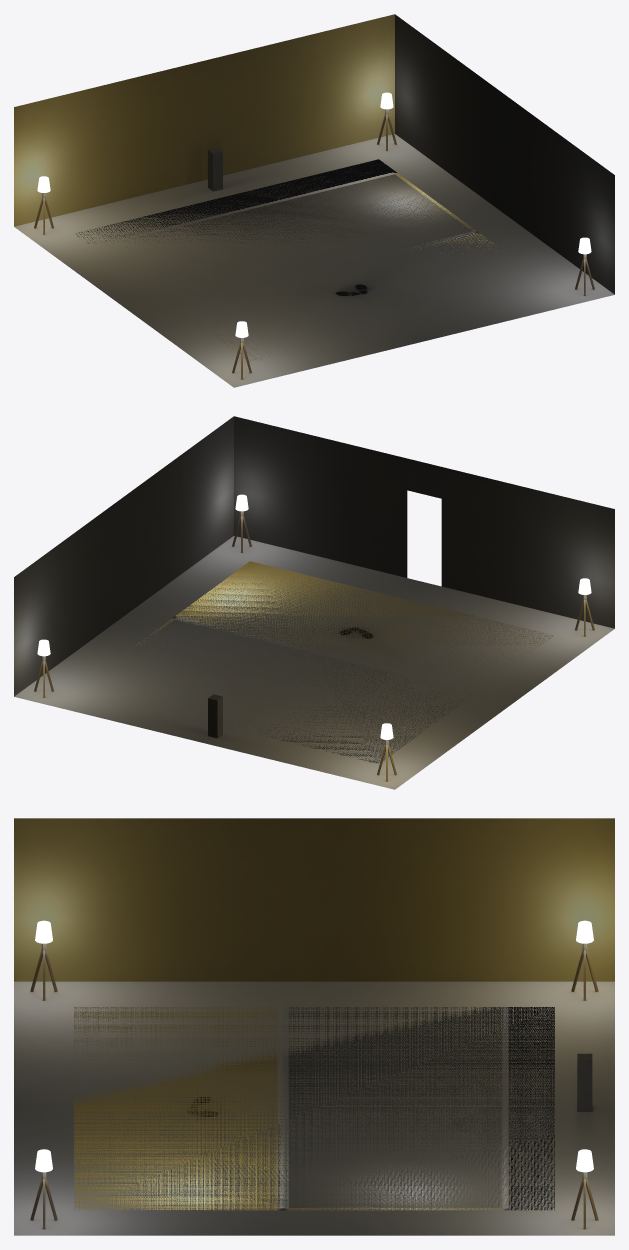
Rendered from soba.glb.
The picture shows the model from 3 angles, top to bottom: view 1: azimuth 30°, elevation 25°; view 2: azimuth 150°, elevation 25°; view 3: azimuth 270°, elevation 25°; orthographic projection. The views are drawn at different scales.
Visible parts, largest first — view 1: walls, walkable; view 2: walls, walkable; view 3: walls, walkable.
Part boxes in pixels (box(x1,y1,x2,y2)): walls: box(14, 14, 614, 387); walkable: box(76, 159, 493, 361); walls: box(14, 416, 614, 789); walkable: box(139, 561, 553, 763); walls: box(14, 818, 614, 1235); walkable: box(74, 1007, 554, 1210).
Size of the model in its own units: 10 by 3 by 10.
3 materials, 2 textured.
